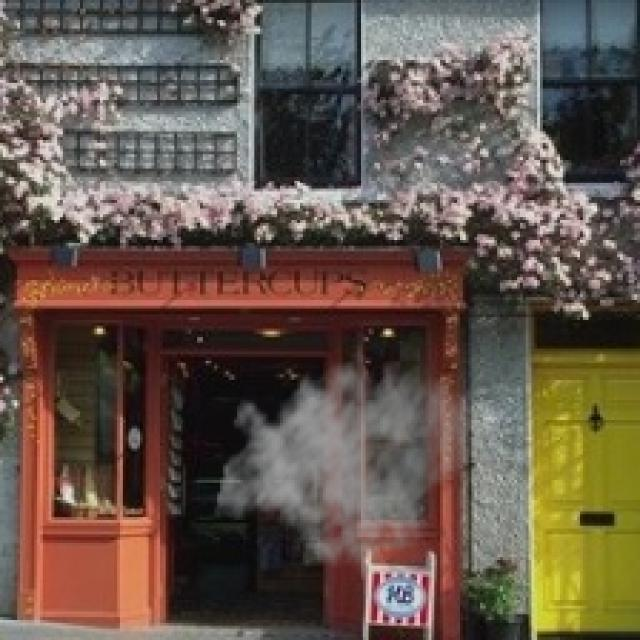smoke: (215, 337, 474, 577)
